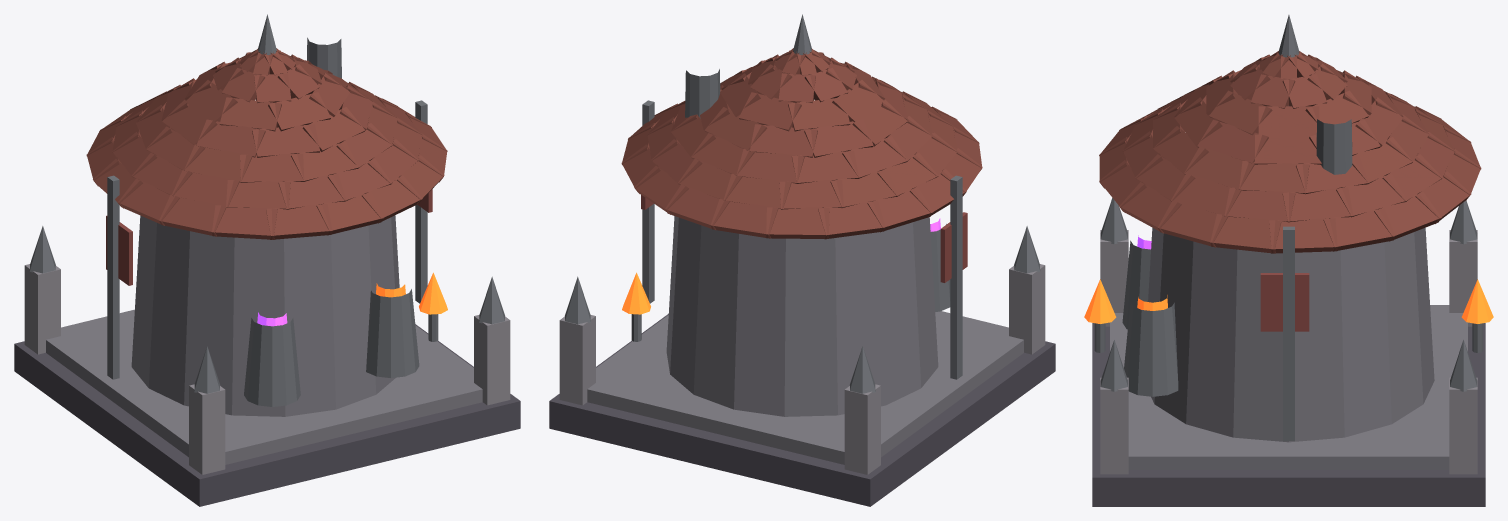
The model's file is laboratory.glb.
3 views of the same model, side by side, from view 1: azimuth 30°, elevation 25°; view 2: azimuth 150°, elevation 25°; view 3: azimuth 270°, elevation 25° (orthographic). The views are drawn at different scales.
Visible parts, largest first — view 1: Laboratory; view 2: Laboratory; view 3: Laboratory.
Part boxes in pixels (x1,y1,x2,y2): Laboratory: (14,14,520,506); Laboratory: (549,14,1055,506); Laboratory: (1084,15,1493,506).
Size of the model in its own units: 3.9 by 4.48 by 4.06.
